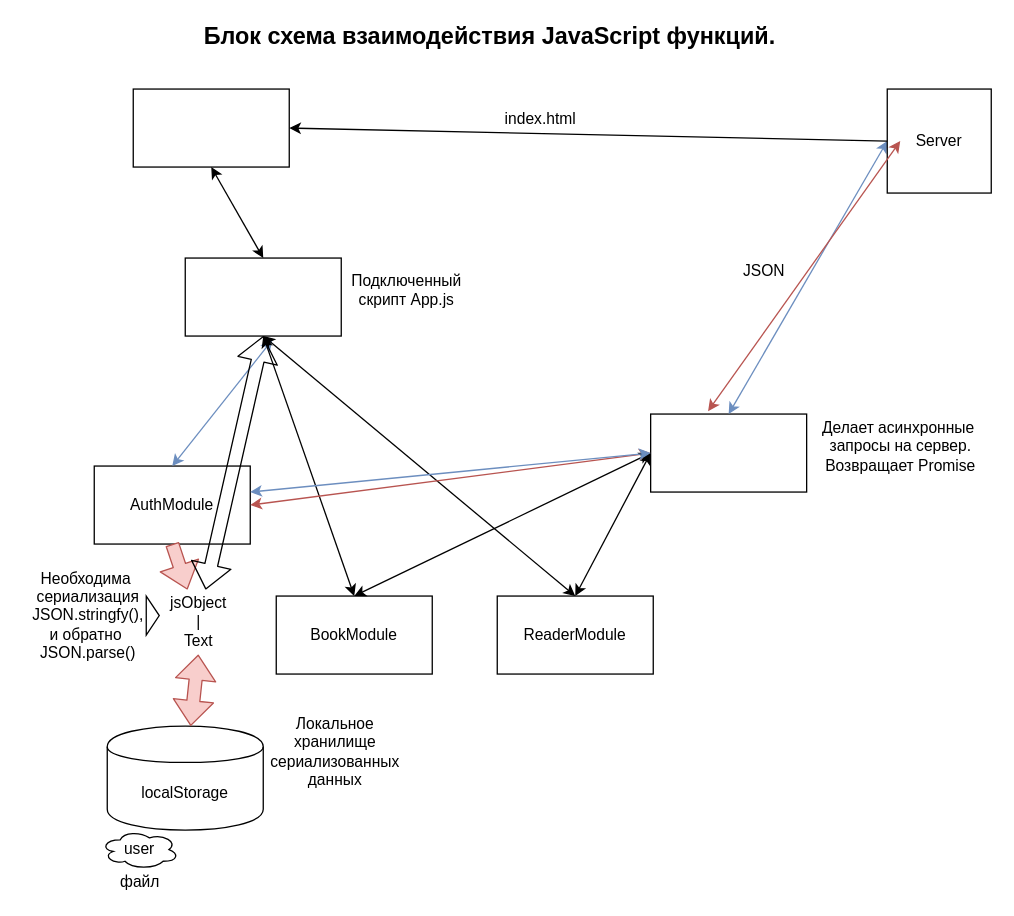
Image size: 1014x916. Some labels were removed from this diagram. The shapes that lost their labels are listed below. From the top down, each one's centre as x and y in pixels, then its label:
At [210,127]: "JS Browser".
At [262,296]: "App".
At [728,452]: "HttpModule".
